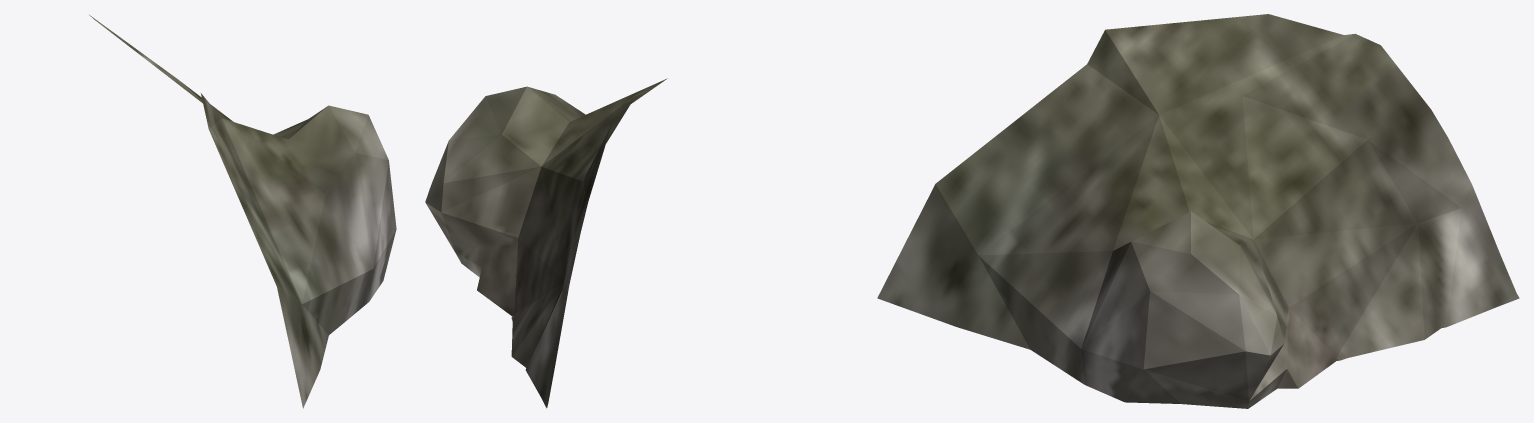
3 renders of one model, left to right at view 1: azimuth 30°, elevation 25°; view 2: azimuth 150°, elevation 25°; view 3: azimuth 270°, elevation 25°, orthographic. The views are drawn at different scales.
Bounding box in the file's own units: 0.4525 × 0.4721 × 0.9669.
Materials: 1 (1 with a texture image).
